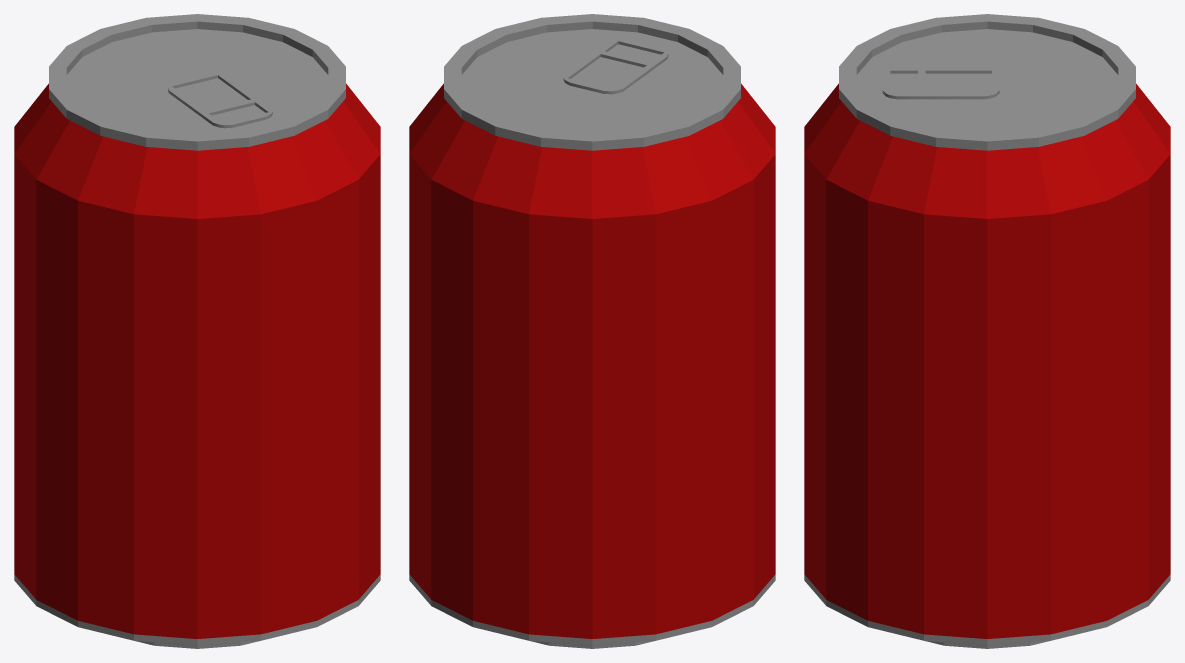
File: soda_can.obj
3 views of the same model, side by side, from view 1: azimuth 30°, elevation 25°; view 2: azimuth 150°, elevation 25°; view 3: azimuth 270°, elevation 25° (orthographic).
Visible parts, largest first — view 1: Cylinder001, Box001; view 2: Cylinder001, Box001; view 3: Cylinder001, Box001.
Boxes of the visible parts, <box> form: Cylinder001: <box>14,14,380,648</box>; Box001: <box>168,73,272,128</box>; Cylinder001: <box>409,14,775,648</box>; Box001: <box>563,39,668,94</box>; Cylinder001: <box>804,14,1170,648</box>; Box001: <box>882,67,999,99</box>.
Size of the model in its own units: 223178 by 342935 by 219787.
